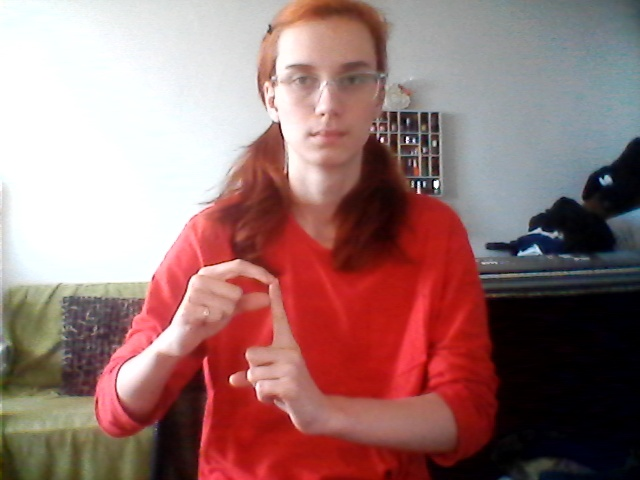p: (176, 256, 317, 436)
